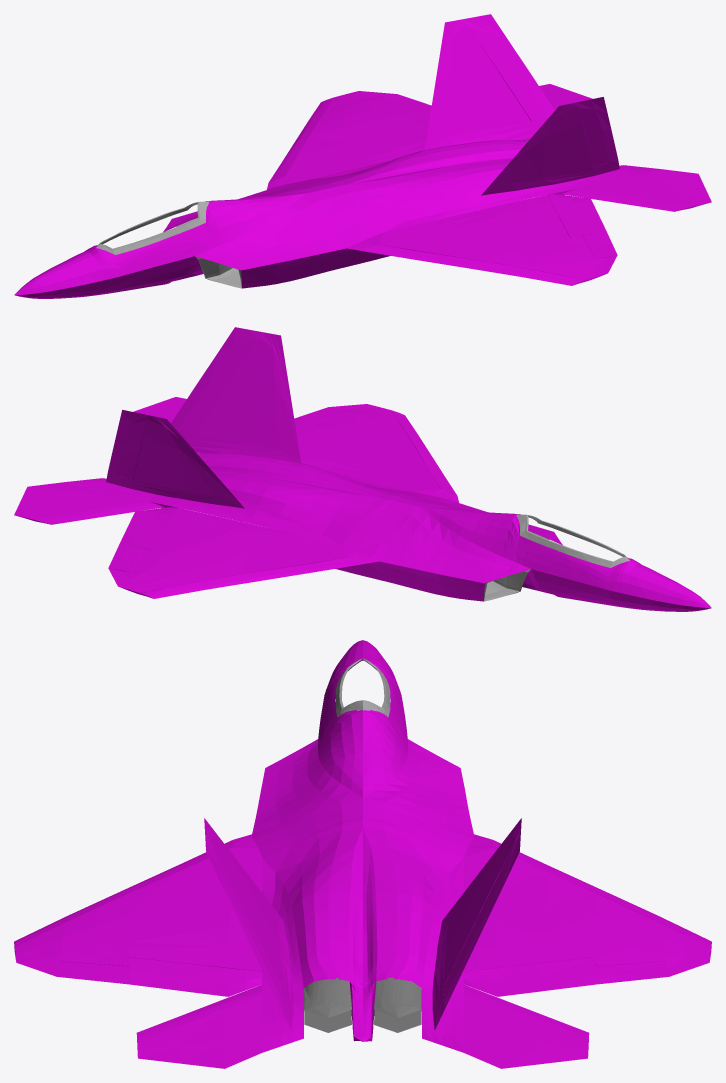
The model's file is f22.body.glb.
The picture shows the model from 3 angles, top to bottom: view 1: azimuth 30°, elevation 25°; view 2: azimuth 150°, elevation 25°; view 3: azimuth 270°, elevation 25°; orthographic projection. The views are drawn at different scales.
Visible parts, largest first — view 1: body; view 2: body; view 3: body.
Part boxes in pixels (x1,y1,x2,y2): body: [14, 14, 711, 298]; body: [14, 327, 711, 611]; body: [14, 640, 711, 1068].
Bounding box in the file's own units: 18.72 × 4.07 × 12.81.
